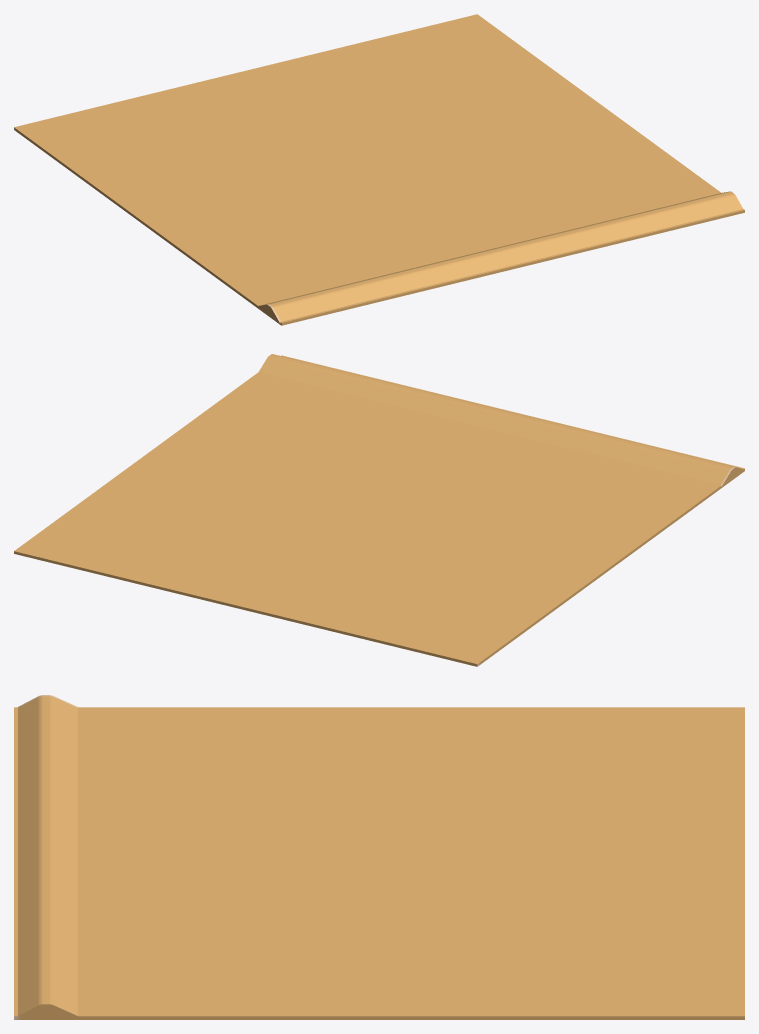
The picture shows the model from 3 angles, top to bottom: view 1: azimuth 30°, elevation 25°; view 2: azimuth 150°, elevation 25°; view 3: azimuth 270°, elevation 25°; orthographic projection. The views are drawn at different scales.
Visible parts, largest first — view 1: Cube, Base2; view 2: Cube, Base2; view 3: Cube, Base2.
Boxes of the visible parts, x1,y1,x2,y2 form: Cube: [14, 14, 744, 325]; Base2: [257, 191, 742, 322]; Cube: [14, 355, 744, 666]; Base2: [258, 354, 744, 486]; Cube: [14, 707, 744, 1019]; Base2: [18, 695, 78, 1016].
Size of the model in its own units: 19227 by 450 by 19200.
